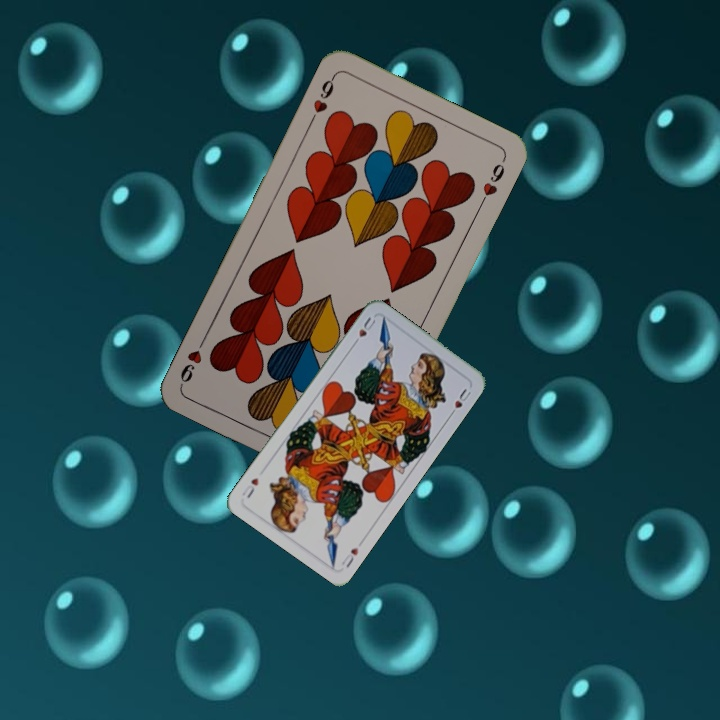H9: (305, 71, 338, 126)
HU: (348, 313, 378, 348), (338, 543, 361, 570)
